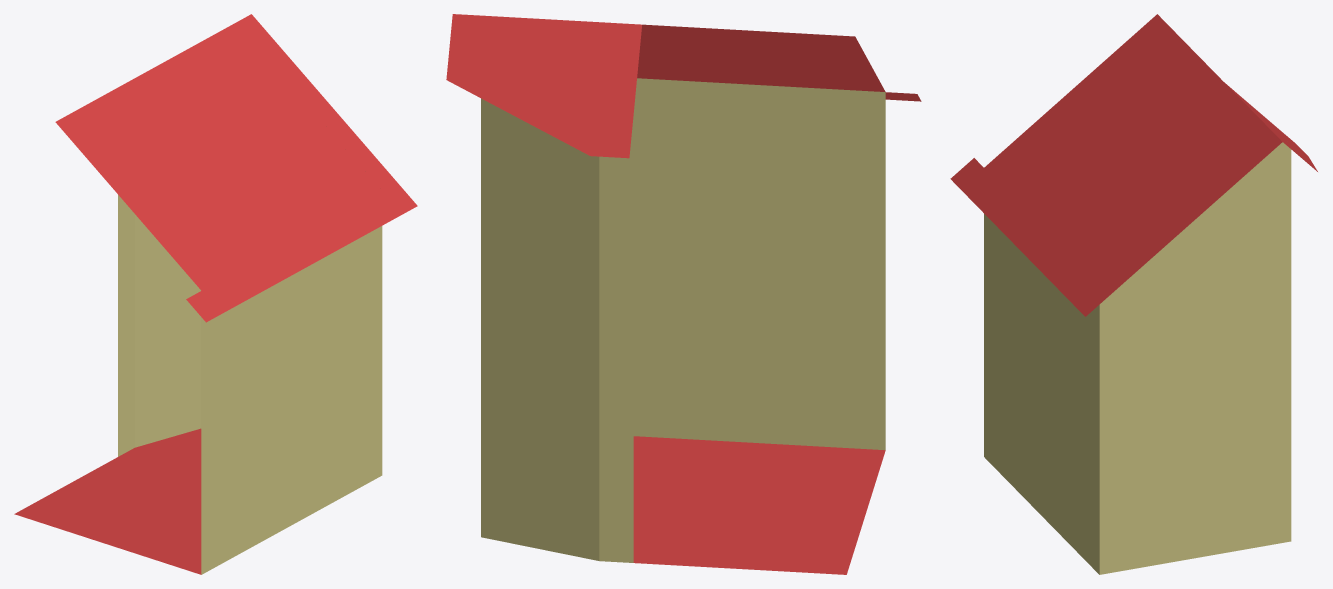
The picture shows the model from 3 angles, left to right: view 1: azimuth 30°, elevation 25°; view 2: azimuth 150°, elevation 25°; view 3: azimuth 270°, elevation 25°; orthographic projection. The views are drawn at different scales.
Size of the model in its own units: 11.76 by 10.71 by 13.23.
